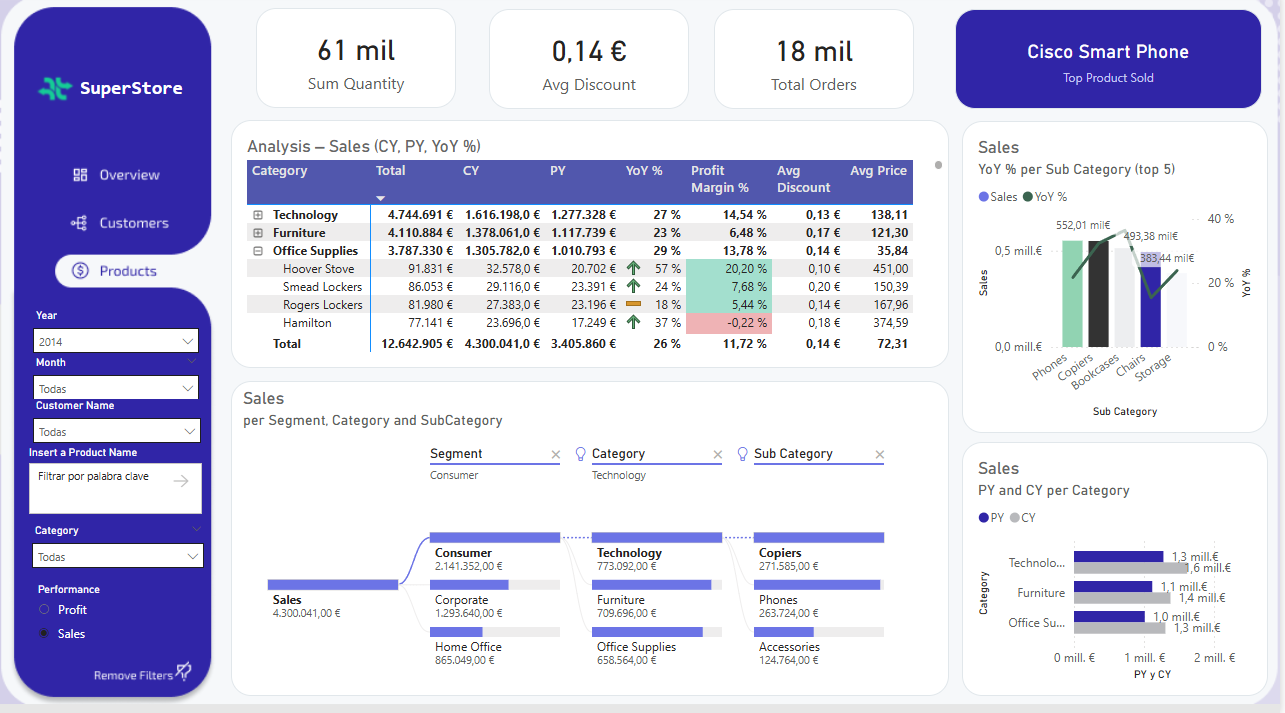

Layout of this report page (visuals, bound fields, positions):
{"tool":"powerbi","page":{"name":"Products","canvas":[1280,720],"ordinal":2},"visuals":[{"type":"slicer","title":"Product Performance","fields":{"Values":["CalculateSales.CalculateSales"]},"box":[25,584,186,84],"z":1000},{"type":"card","title":"Profit","fields":{"Values":["_Measures.Avg Discount"]},"box":[489.3,15.3,200.2,99.7],"z":2000},{"type":"clusteredBarChart","fields":{"Category":["DimProduct.Category","DimProduct.Product name"],"Y":["_Measures.Selected PY","_Measures.Selected CY"]},"box":[962,448,306,254],"z":3000},{"type":"slicer","title":"Category","fields":{"Values":["DimProduct.Category"]},"box":[22,525,192,59],"z":4000},{"type":"pivotTable","fields":{"Rows":["DimProduct.Category","DimProduct.Product name"],"Values":["_Measures.Selected Total","_Measures.Selected CY","_Measures.Selected PY","_Measures.Selected YoY %","_Measures.Profit Margin %","_Measures.Avg Discount","_Measures.Avg Price"]},"box":[231,126,718,248],"z":6000},{"type":"lineClusteredColumnComboChart","fields":{"Y":["_Measures.Sales Sum"],"Category":["DimProduct.Sub Category"],"Y2":["_Measures.Selected YoY %"]},"box":[962,127,306,312],"z":7000},{"type":"decompositionTreeVisual","fields":{"Analyze":["_Measures.Sales Sum"],"ExplainBy":["DimCustomer.Segment","DimProduct.Category","DimProduct.Sub Category"]},"box":[231,387,718,315],"z":8000},{"type":"card","title":"Profit","fields":{"Values":["_Measures.Top Product"]},"box":[955,15,307,100],"z":9000},{"type":"textSlicer","title":"Insert a Product Name","fields":{"Values":["DimProduct.Product name"]},"box":[24,452,183,73],"z":10000},{"type":"card","title":"Profit","fields":{"Values":["_Measures.Total Orders"]},"box":[714,15,200,100],"z":11000},{"type":"pageNavigator","box":[45.8,154.4,143.6,152.6],"z":12000},{"type":"card","title":"Profit","fields":{"Values":["_Measures.Sum Quantity"]},"box":[255.9,14.4,200.2,99.7],"z":14000},{"type":"image","box":[33,78,42,37],"z":14000,"group":"g1"},{"type":"group","id":"g1","title":"Grupo 1","box":[33,78,157,44],"z":15000},{"type":"textbox","box":[75,78,115,44],"z":15000,"group":"g1"},{"type":"shape","box":[240,0,1027,122],"z":15001},{"type":"slicer","title":"Market","fields":{"Values":["DimCustomer.Customer Name"]},"box":[23,400,188,52],"z":15002},{"type":"slicer","title":"Year","fields":{"Values":["DimCalendar.Year"]},"box":[23,310,186,53],"z":15003},{"type":"slicer","title":"Year","fields":{"Values":["DimCalendar.MonthText"]},"box":[23,357,186,48],"z":15004},{"type":"actionButton","box":[63,652,144,50],"z":15005}]}

Visuals, with their boxes in screenshot pixels (x1, y1, x2, y2), scaled from the page's 1280x720 canvas onto the 1285x713 screenshot:
"Product Performance" slicer: (25, 578, 212, 662)
"Profit" card: (491, 15, 692, 114)
clusteredBarChart - DimProduct.Category x DimProduct.Product name: (966, 444, 1273, 695)
"Category" slicer: (22, 520, 215, 578)
pivotTable - DimProduct.Category x DimProduct.Product name: (232, 125, 953, 370)
lineClusteredColumnComboChart - _Measures.Sales Sum x DimProduct.Sub Category: (966, 126, 1273, 435)
decompositionTreeVisual - _Measures.Sales Sum x DimCustomer.Segment: (232, 383, 953, 695)
"Profit" card: (959, 15, 1267, 114)
"Insert a Product Name" textSlicer: (24, 448, 208, 520)
"Profit" card: (717, 15, 918, 114)
pageNavigator: (46, 153, 190, 304)
"Profit" card: (257, 14, 458, 113)
image: (33, 77, 75, 114)
"Grupo 1" group: (33, 77, 191, 121)
textbox: (75, 77, 191, 121)
shape: (241, 0, 1272, 121)
"Market" slicer: (23, 396, 212, 448)
"Year" slicer: (23, 307, 210, 359)
"Year" slicer: (23, 354, 210, 401)
actionButton: (63, 646, 208, 695)
